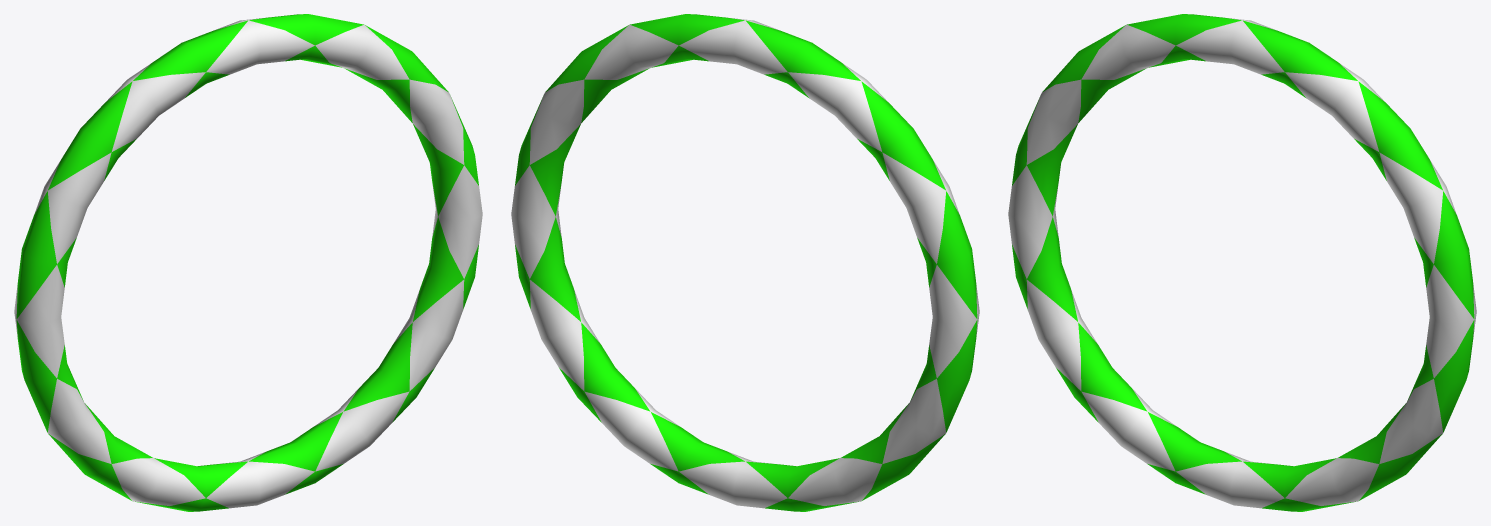
The model's file is CPI_D_FBX_14_Ring_A.fbx.
3 renders of one model, left to right at view 1: azimuth 30°, elevation 25°; view 2: azimuth 150°, elevation 25°; view 3: azimuth 330°, elevation 25°, orthographic.
Visible parts, largest first — view 1: CPI_D_FBX_14_Ring_A; view 2: CPI_D_FBX_14_Ring_A; view 3: CPI_D_FBX_14_Ring_A.
Part boxes in pixels (box(x1,y1,x2,y2)): CPI_D_FBX_14_Ring_A: box(14, 14, 482, 511); CPI_D_FBX_14_Ring_A: box(511, 14, 979, 511); CPI_D_FBX_14_Ring_A: box(1008, 14, 1476, 511).
Size of the model in its own units: 2.2 by 2.2 by 0.2.
